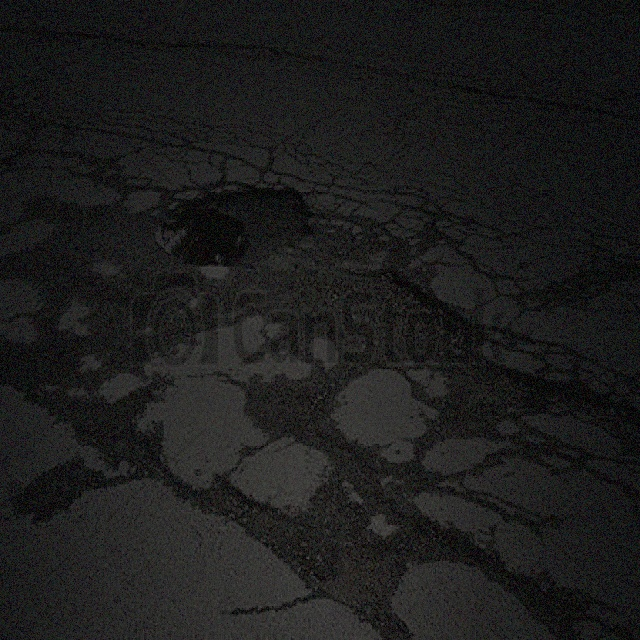pothole: (146, 175, 314, 269), (376, 264, 472, 328)
